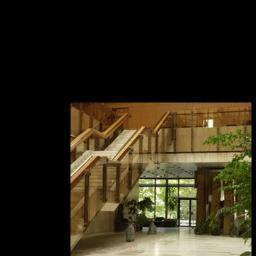Escaleras: (71, 113, 172, 254)
Matera: (165, 189, 178, 229), (138, 199, 151, 229), (208, 212, 224, 236), (194, 216, 206, 236)
